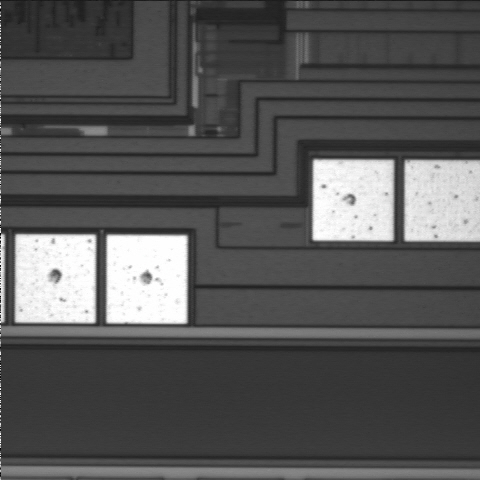pad: (15, 234, 96, 323), (106, 235, 187, 324), (313, 160, 394, 241)
